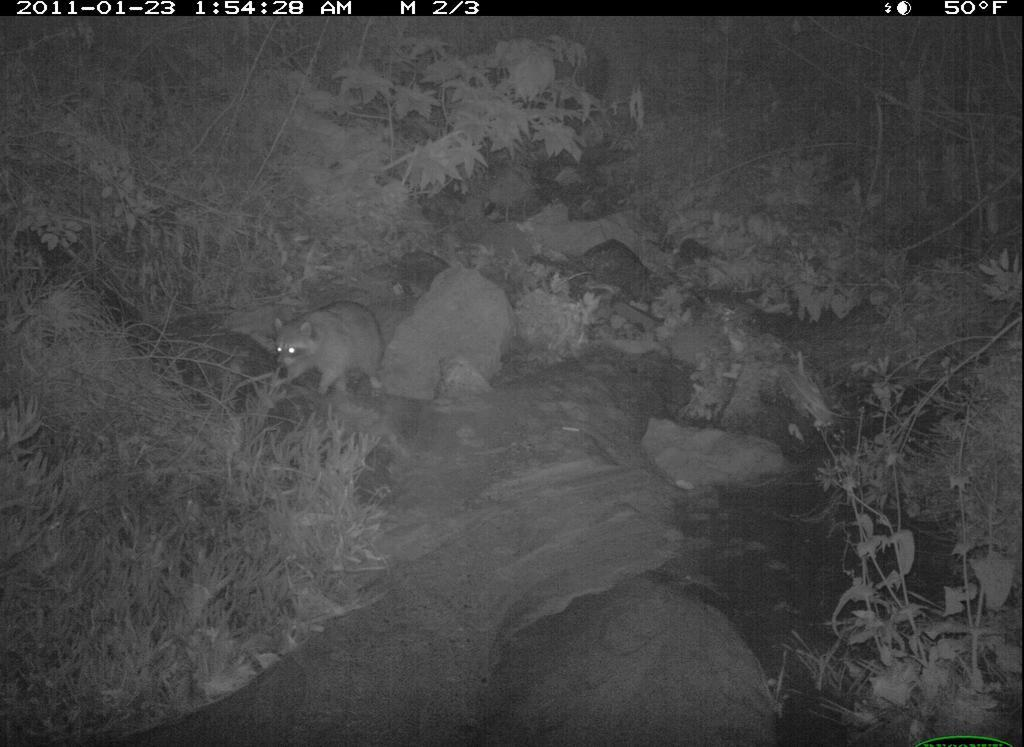raccoon: (260, 299, 413, 405)
